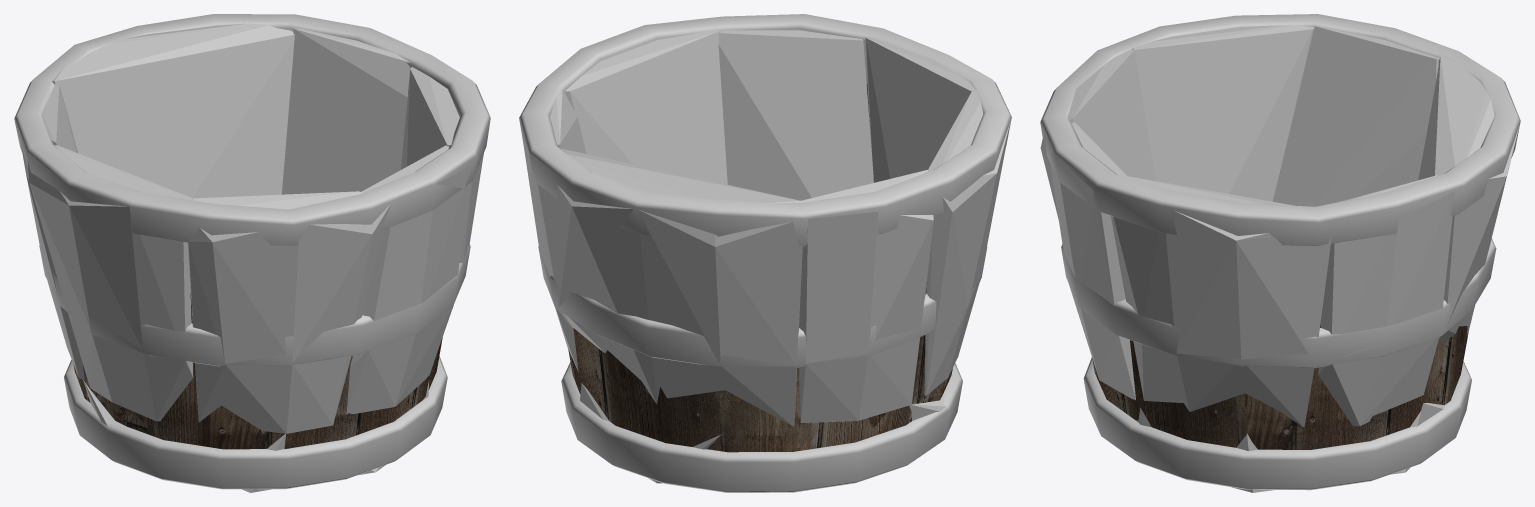
The model's file is SM_Wooden_Bucket_01a.fbx.
3 views of the same model, side by side, from view 1: azimuth 30°, elevation 25°; view 2: azimuth 150°, elevation 25°; view 3: azimuth 270°, elevation 25° (orthographic). The views are drawn at different scales.
Visible parts, largest first — view 1: SM_Wooden_Bucket_01a_ConvexHulls, SM_Wooden_Bucket_01a; view 2: SM_Wooden_Bucket_01a_ConvexHulls, SM_Wooden_Bucket_01a; view 3: SM_Wooden_Bucket_01a_ConvexHulls, SM_Wooden_Bucket_01a.
Part boxes in pixels (box(x1,y1,x2,y2)): SM_Wooden_Bucket_01a_ConvexHulls: box(20, 23, 483, 492); SM_Wooden_Bucket_01a: box(14, 14, 490, 489); SM_Wooden_Bucket_01a_ConvexHulls: box(522, 29, 1011, 483); SM_Wooden_Bucket_01a: box(519, 14, 1011, 492); SM_Wooden_Bucket_01a_ConvexHulls: box(1040, 25, 1518, 492); SM_Wooden_Bucket_01a: box(1040, 14, 1520, 490).
Size of the model in its own units: 52.24 by 53.04 by 37.2.
